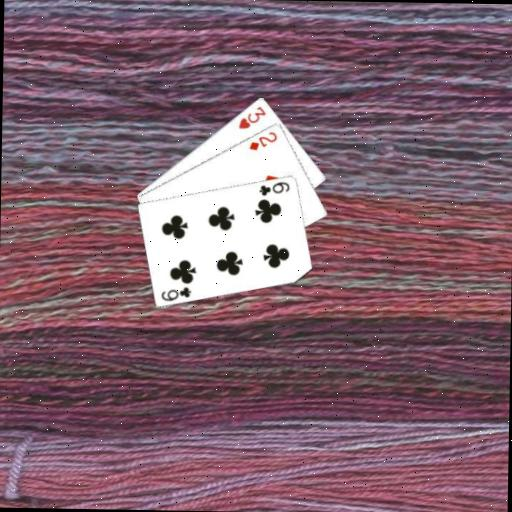2D: (246, 128, 279, 152)
3H: (236, 103, 268, 131)
6C: (256, 178, 291, 198), (159, 283, 193, 303)
